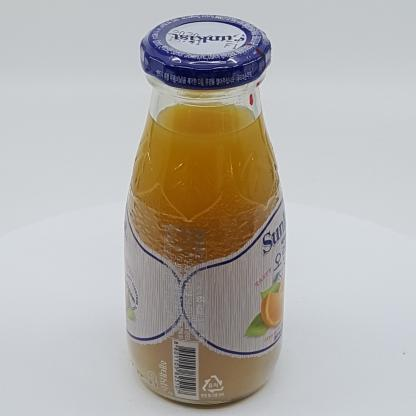----------180ML: (124, 15, 286, 405)
